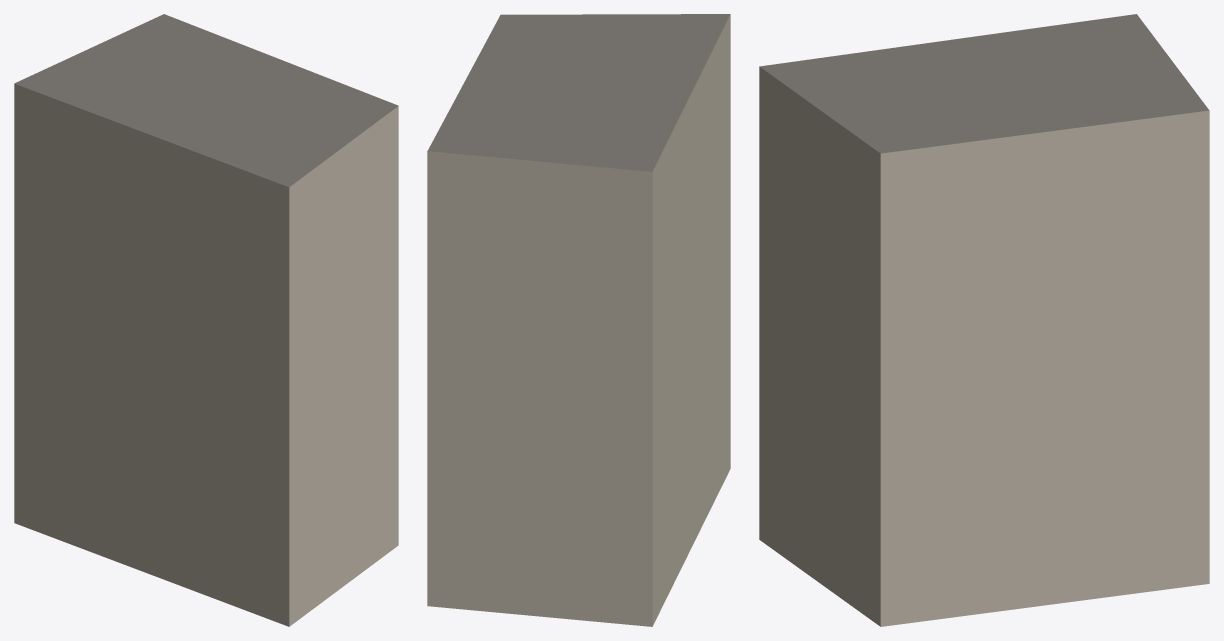
3 views of the same model, side by side, from view 1: azimuth 30°, elevation 25°; view 2: azimuth 150°, elevation 25°; view 3: azimuth 270°, elevation 25° (orthographic). The views are drawn at different scales.
Visible parts, largest first — view 1: HP-w1198568467; view 2: HP-w1198568467; view 3: HP-w1198568467.
Boxes of the visible parts, left/top/right/bottom form: HP-w1198568467: left=14, top=14, right=398, bottom=626; HP-w1198568467: left=427, top=14, right=730, bottom=626; HP-w1198568467: left=759, top=14, right=1209, bottom=626.
Size of the model in its own units: 11.39 by 18 by 15.51.
